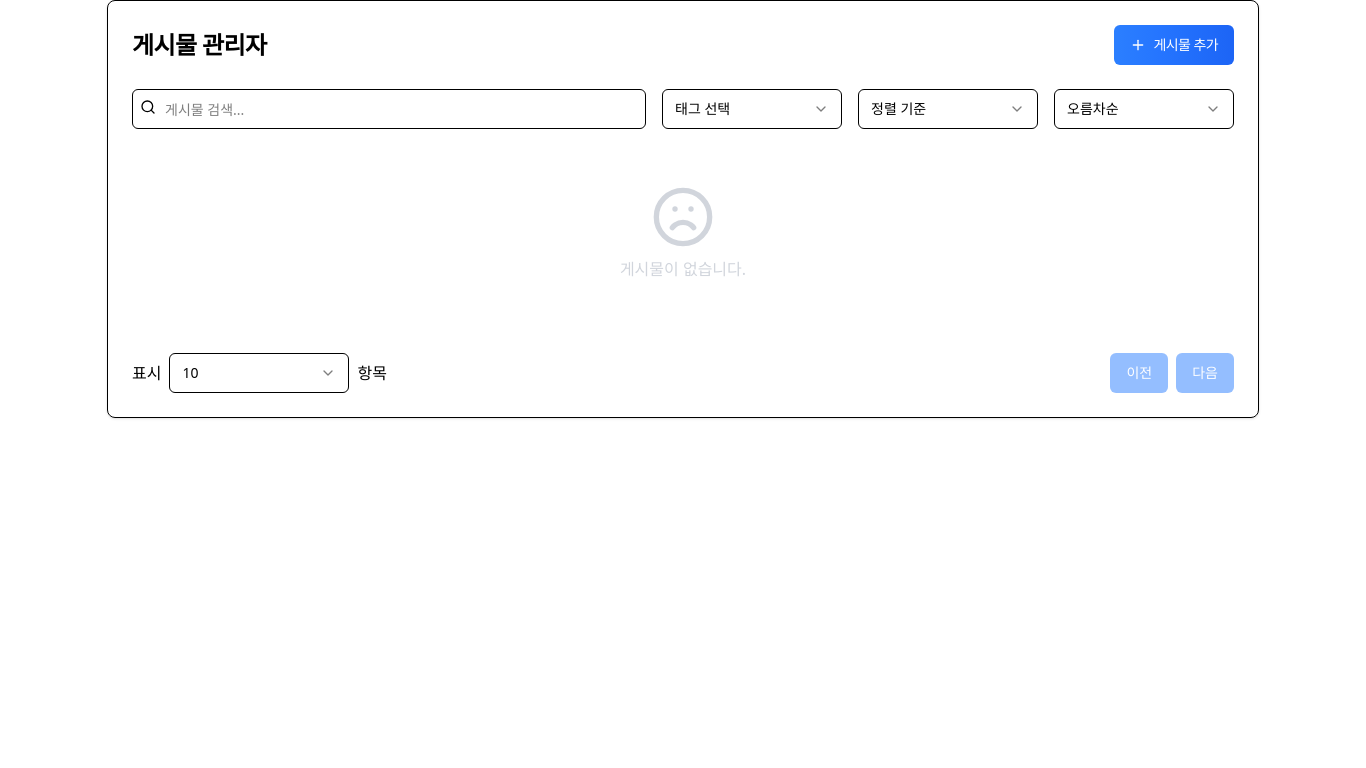
Scenario: PostsManager › 새 게시물 추가를 허용합니다
Click the button "게시물 추가".
click(1174, 45)  # box [1114,25,1234,65]
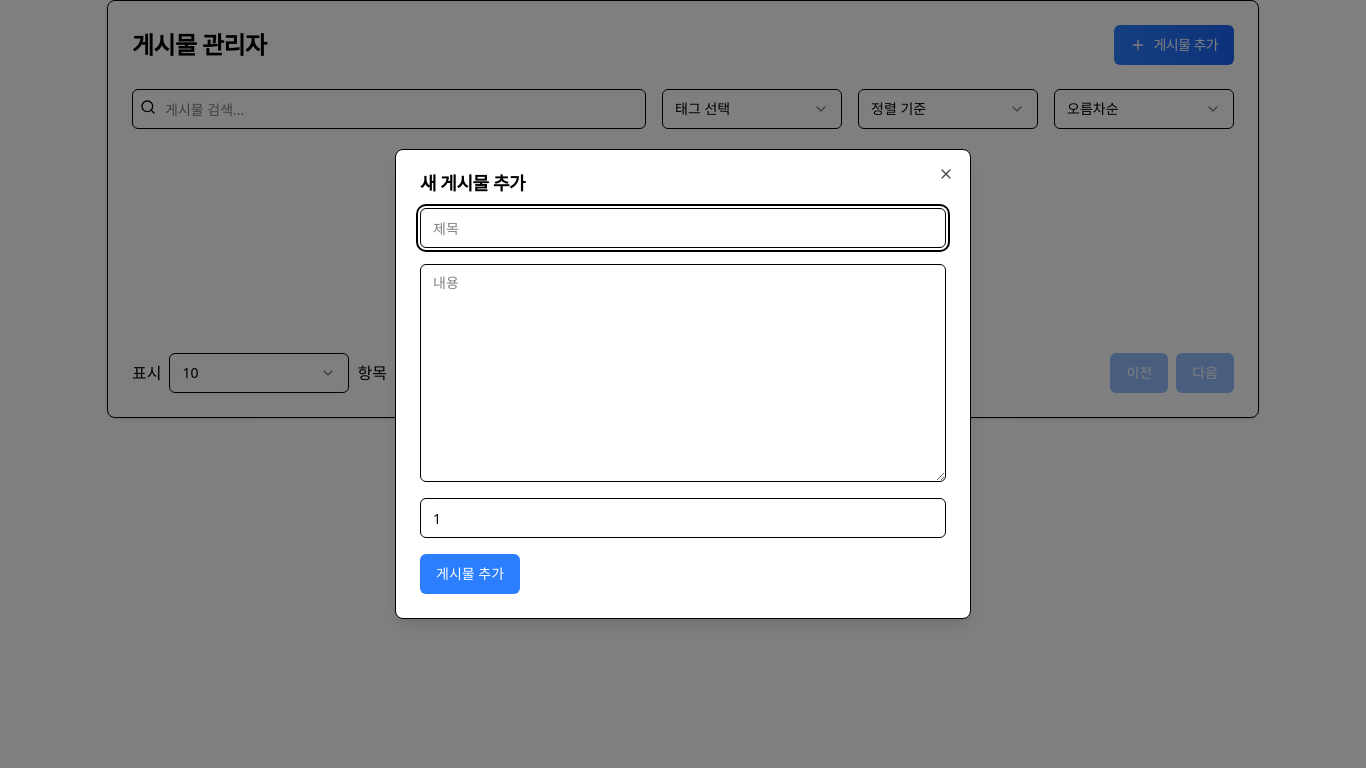
Type "New Post" into the field with placeholder "제목".
click(683, 228); type("New Post")  # box [420,208,946,248]
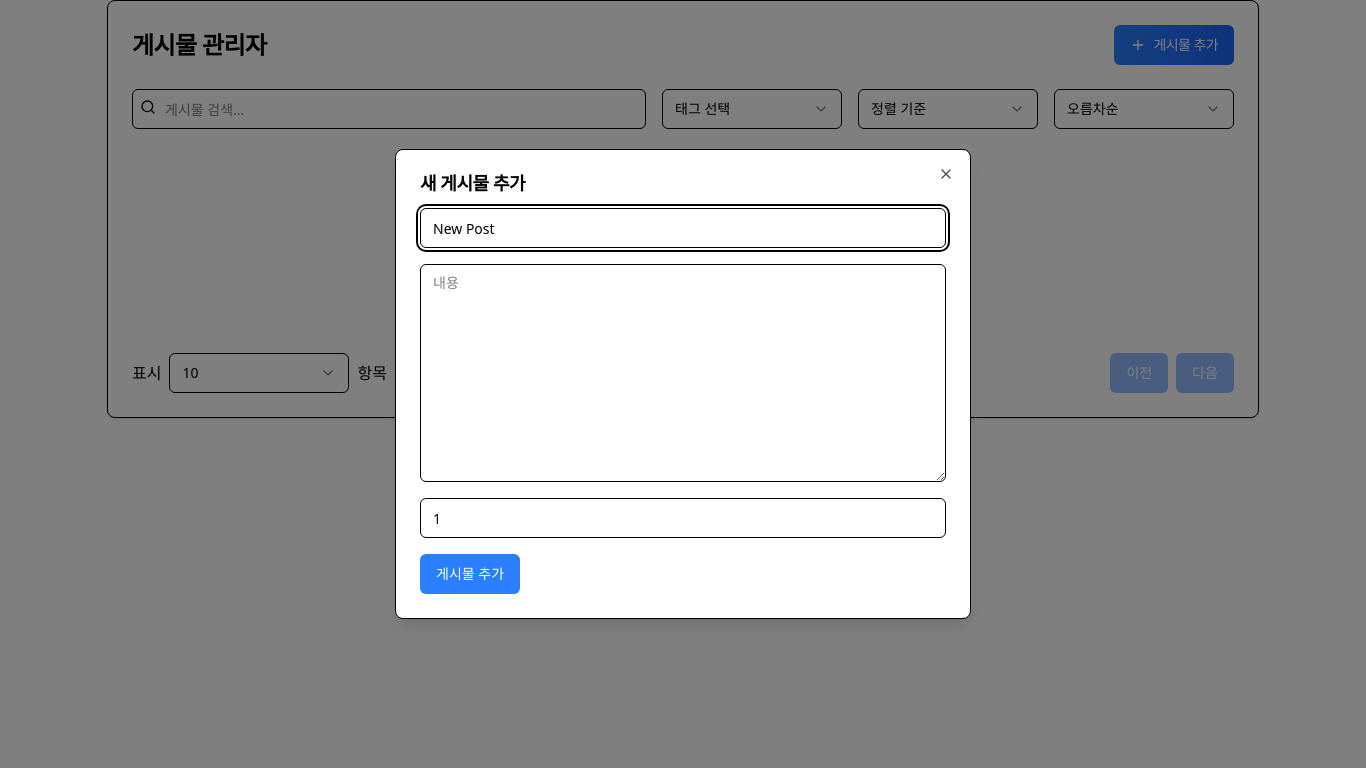
Type "This is a new post" into the text box with placeholder "내용".
click(683, 373); type("This is a new post")  # box [420,264,946,482]
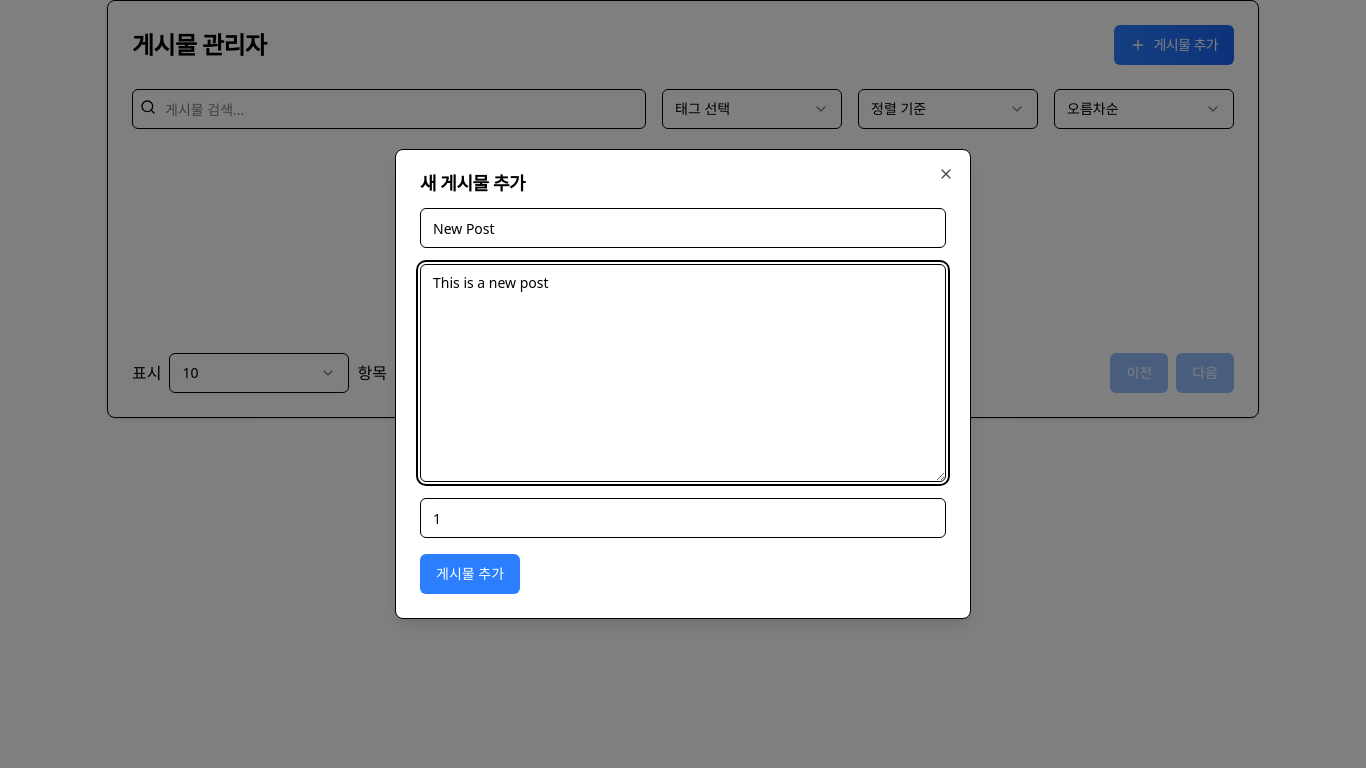
Click the button "게시물 추가".
click(470, 574)  # box [420,554,520,594]
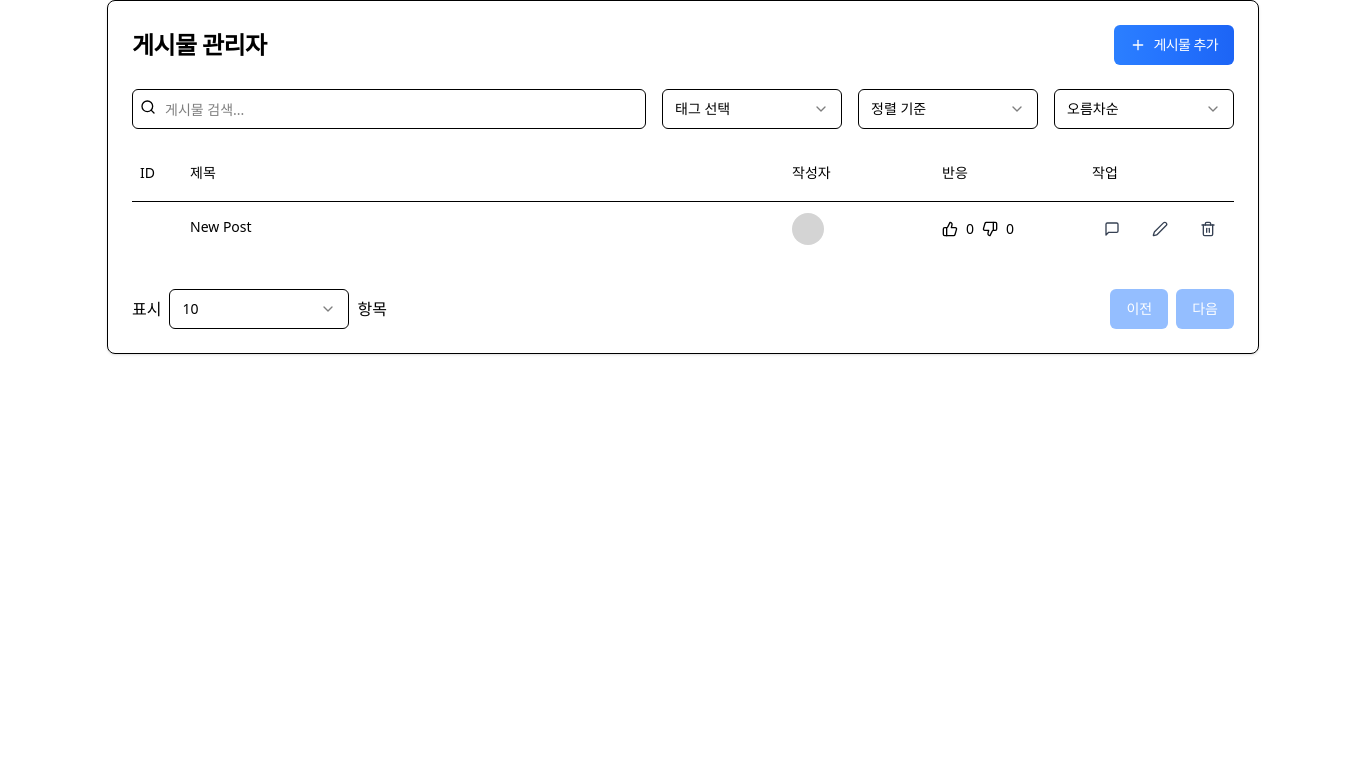
Check: the text "New Post" is shown, box [190,217,252,236]
